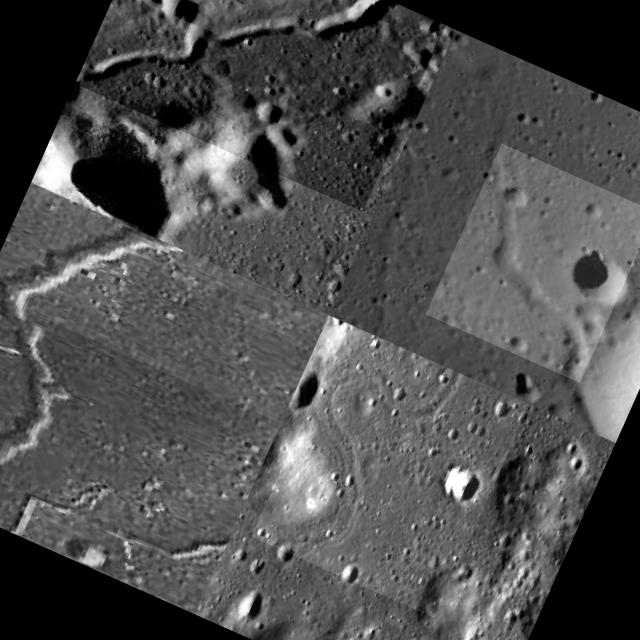rille: (0, 184, 318, 609), (0, 291, 279, 612), (251, 322, 530, 618), (74, 0, 445, 212), (425, 143, 640, 383)
